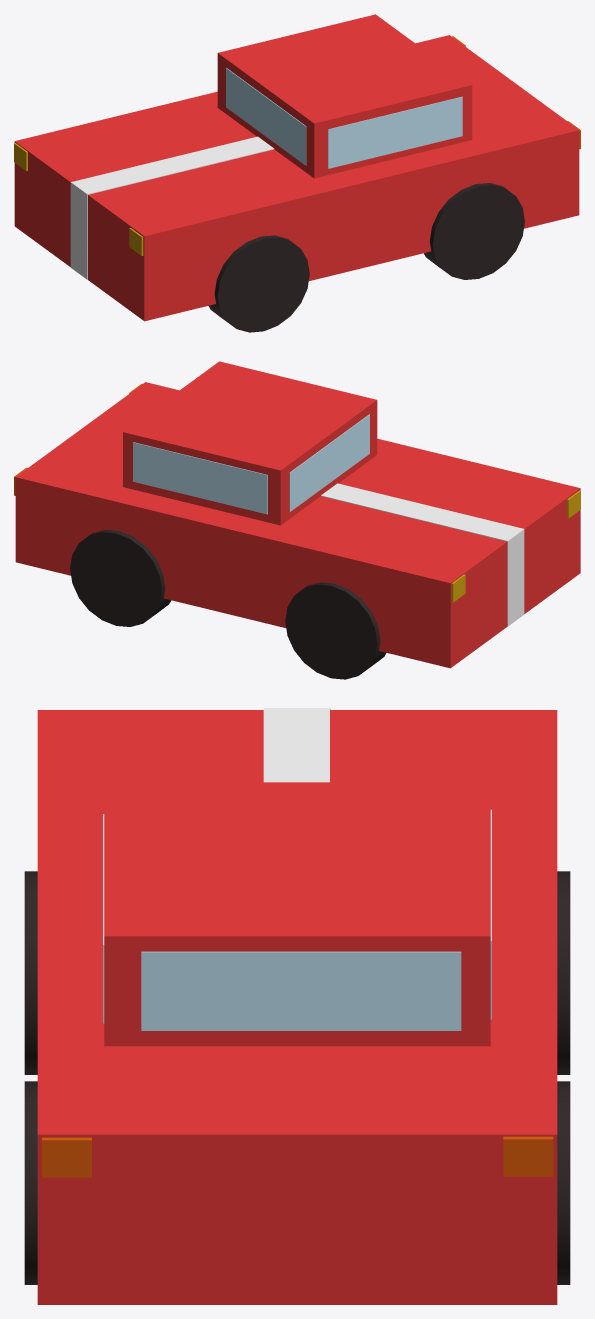
File: player.fbx
3 views of the same model, one above another, from view 1: azimuth 30°, elevation 25°; view 2: azimuth 150°, elevation 25°; view 3: azimuth 270°, elevation 25° (orthographic). The views are drawn at different scales.
Visible parts, largest first — view 1: RaceCar; view 2: RaceCar; view 3: RaceCar.
Part boxes in pixels (x1,y1,x2,y2): RaceCar: (14,14,580,332); RaceCar: (14,361,580,679); RaceCar: (24,708,570,1304).
Size of the model in its own units: 9988 by 3826 by 5370.
6 materials, 6 textured.
